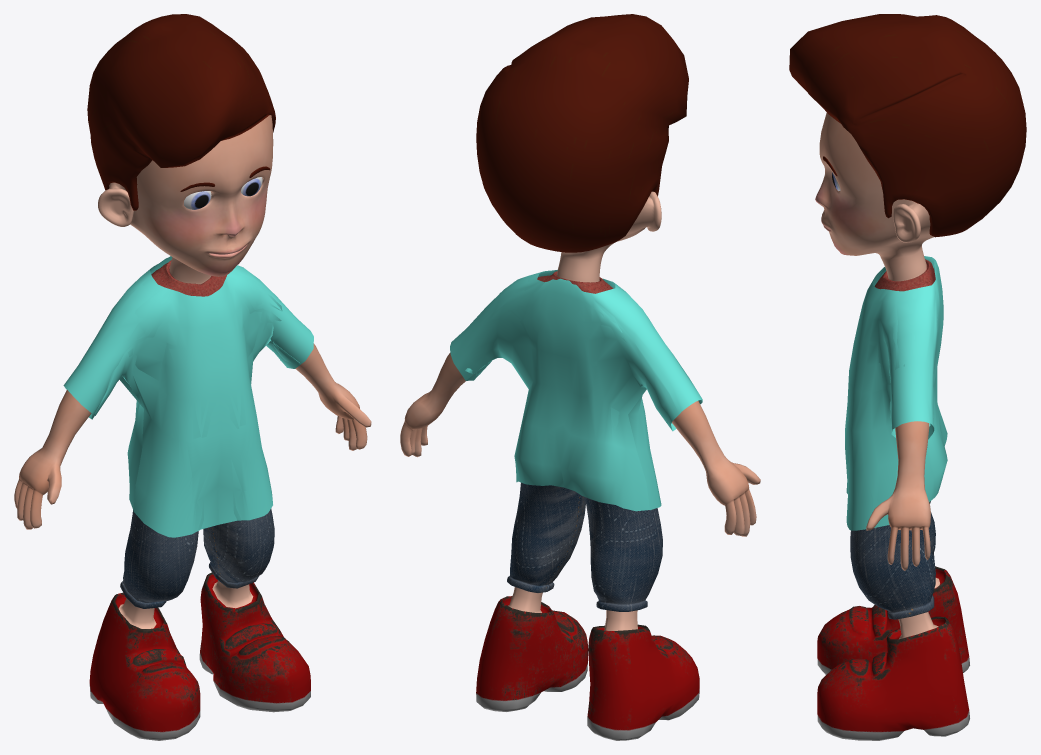
File: Boy_Three.glb
The picture shows the model from 3 angles, left to right: view 1: azimuth 30°, elevation 25°; view 2: azimuth 150°, elevation 25°; view 3: azimuth 270°, elevation 25°; orthographic projection.
Visible parts, largest first — view 1: character01_Tex_0.001, character01; view 2: character01_Tex_0.001, character01; view 3: character01_Tex_0.001, character01.
Part boxes in pixels (left/top/right/bottom): character01_Tex_0.001: left=14, top=14, right=371, bottom=740; character01: left=63, top=256, right=313, bottom=537; character01_Tex_0.001: left=400, top=14, right=760, bottom=740; character01: left=450, top=269, right=702, bottom=511; character01_Tex_0.001: left=789, top=14, right=1026, bottom=740; character01: left=845, top=256, right=947, bottom=530.
Size of the model in its own units: 0.7022 by 1.33 by 0.4234.
Materials: 2 (1 with a texture image).
